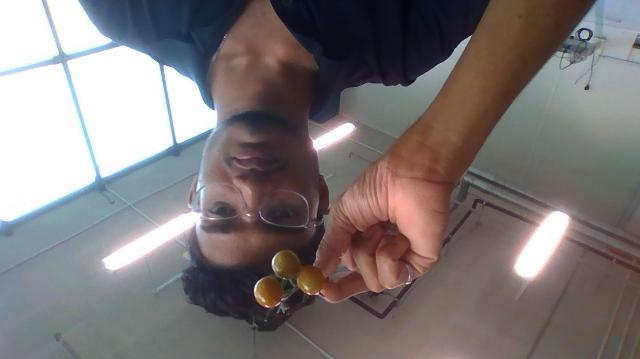Fully Grown: (253, 276, 285, 309), (296, 264, 327, 297), (272, 249, 302, 281)
